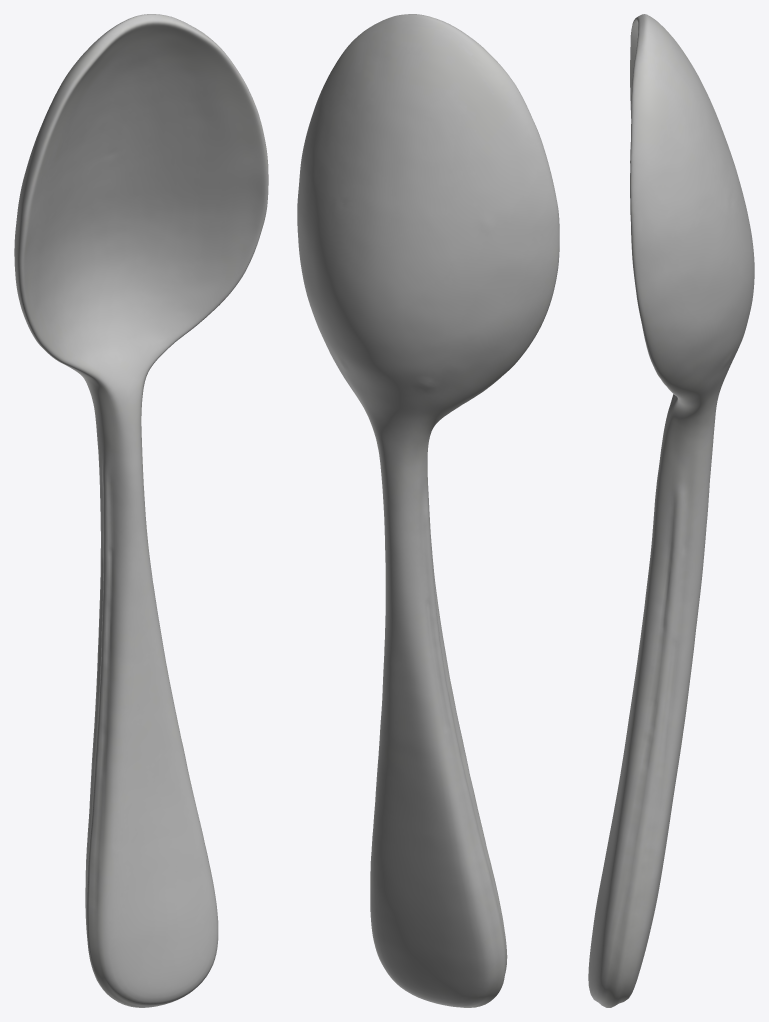
File: model_dinner_spoon.glb
The picture shows the model from 3 angles, left to right: view 1: azimuth 30°, elevation 25°; view 2: azimuth 150°, elevation 25°; view 3: azimuth 270°, elevation 25°; orthographic projection. The views are drawn at different scales.
Visible parts, largest first — view 1: tripo_node_987f0a92-8d84-4377-b85f-05f7f8d40a83; view 2: tripo_node_987f0a92-8d84-4377-b85f-05f7f8d40a83; view 3: tripo_node_987f0a92-8d84-4377-b85f-05f7f8d40a83.
Boxes of the visible parts, left/top/right/bottom form: tripo_node_987f0a92-8d84-4377-b85f-05f7f8d40a83: left=14, top=14, right=268, bottom=1007; tripo_node_987f0a92-8d84-4377-b85f-05f7f8d40a83: left=297, top=14, right=559, bottom=1007; tripo_node_987f0a92-8d84-4377-b85f-05f7f8d40a83: left=588, top=14, right=754, bottom=1007.
Bounding box in the file's own units: 0.2672 × 0.9997 × 0.1542.
Materials: 1 (1 with a texture image).
